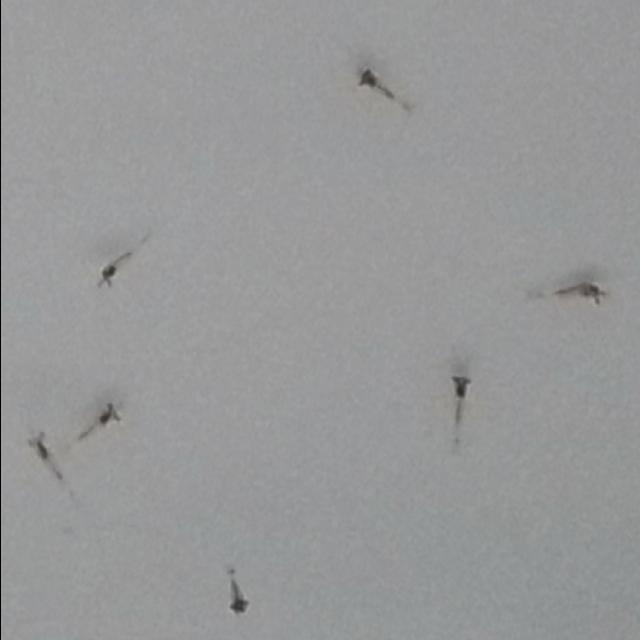shrimp-seed: (556, 278, 603, 308), (356, 64, 390, 98), (95, 254, 124, 290), (226, 576, 250, 618), (447, 368, 472, 404), (92, 402, 122, 432), (26, 424, 50, 460)
